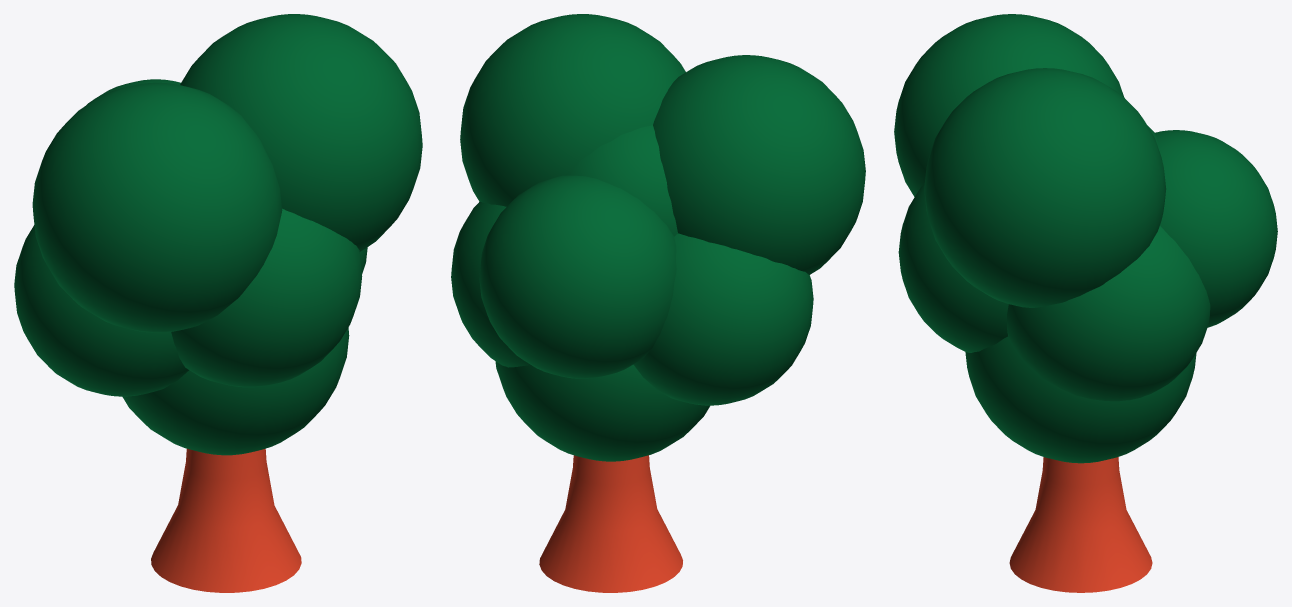
File: tree_sheinna1.glb
3 renders of one model, left to right at view 1: azimuth 30°, elevation 25°; view 2: azimuth 150°, elevation 25°; view 3: azimuth 270°, elevation 25°, orthographic. The views are drawn at different scales.
Parts seen in each view (by area): view 1: Sphere.007, Sphere.006, Sphere.004, Cylinder, Sphere.003, Sphere; view 2: Sphere.007, Sphere.005, Sphere.006, Sphere.003, Cylinder, Sphere, Sphere.001, Sphere.008; view 3: Sphere.006, Sphere.008, Sphere.005, Sphere.007, Sphere, Cylinder, Sphere.004.
Part boxes in pixels (x1,y1,x2,y2): Sphere.007: (32, 82, 282, 332); Sphere.006: (180, 14, 422, 251); Sphere.004: (171, 208, 362, 387); Cylinder: (151, 448, 301, 592); Sphere.003: (14, 225, 188, 396); Sphere: (122, 327, 349, 455); Sphere.007: (653, 55, 865, 274); Sphere.005: (479, 175, 676, 378); Sphere.006: (460, 14, 685, 206); Sphere.003: (633, 233, 813, 405); Cylinder: (539, 455, 682, 592); Sphere: (495, 361, 709, 461); Sphere.001: (565, 125, 677, 236); Sphere.008: (451, 201, 530, 367); Sphere.006: (924, 68, 1166, 307); Sphere.008: (1007, 226, 1210, 401); Sphere.005: (1155, 130, 1277, 327); Sphere.007: (894, 14, 1124, 196); Sphere: (965, 336, 1196, 463); Cylinder: (1009, 457, 1152, 592); Sphere.004: (898, 184, 1008, 352).
Size of the model in its own units: 2.28 by 3.13 by 2.15.
